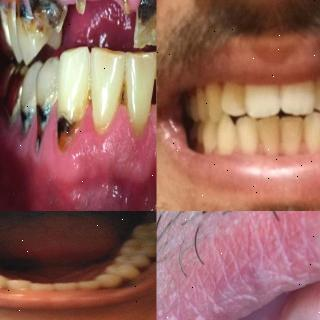Gum Swelling: (102, 106, 156, 176), (59, 107, 101, 165), (39, 105, 59, 167)
cavities: (56, 108, 80, 162), (33, 94, 53, 156), (28, 0, 58, 41), (136, 0, 156, 40), (16, 103, 31, 144), (15, 0, 30, 38)
maligned: (218, 75, 250, 121), (212, 116, 238, 157), (255, 114, 279, 152), (302, 111, 320, 154), (307, 76, 320, 120), (0, 275, 31, 291)
plaque: (38, 76, 60, 118), (82, 75, 98, 117)
stains: (114, 71, 130, 119)
